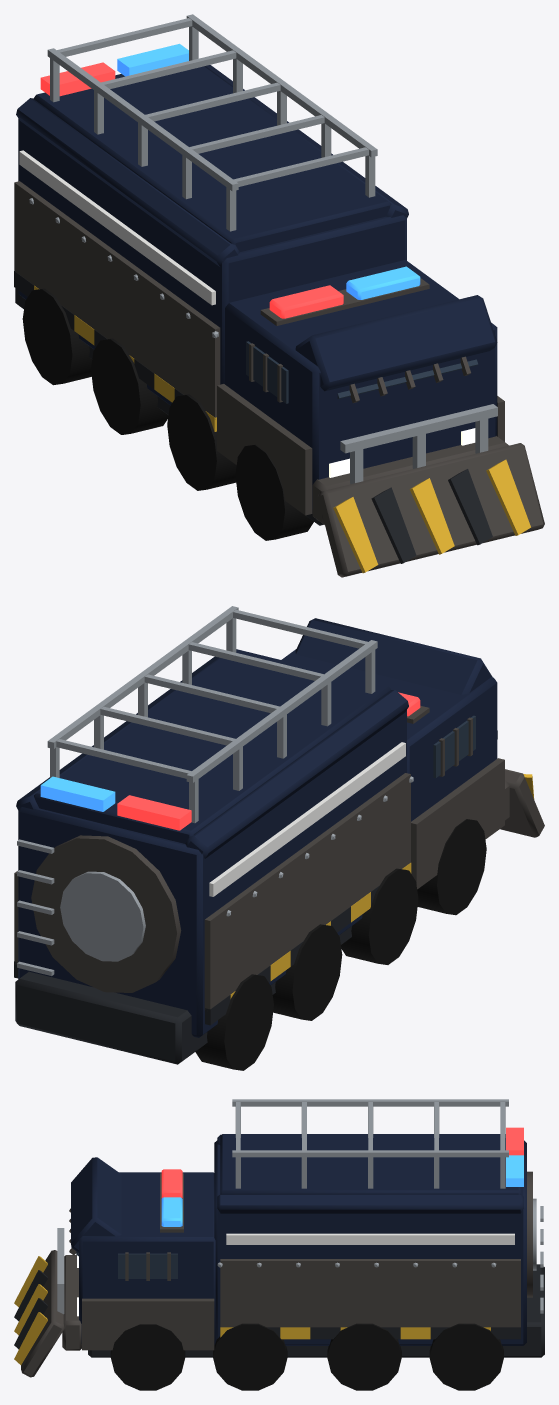
File: hidrante_l3.fbx
The picture shows the model from 3 angles, top to bottom: view 1: azimuth 30°, elevation 25°; view 2: azimuth 150°, elevation 25°; view 3: azimuth 270°, elevation 25°; orthographic projection. The views are drawn at different scales.
Parts seen in each view (by area): view 1: hidrante_l3; view 2: hidrante_l3; view 3: hidrante_l3.
Part boxes in pixels (x1,y1,x2,y2): hidrante_l3: (14,14,544,577); hidrante_l3: (14,606,544,1070); hidrante_l3: (14,1099,544,1390).
Bounding box in the file's own units: 2.9 × 4.18 × 8.83.
